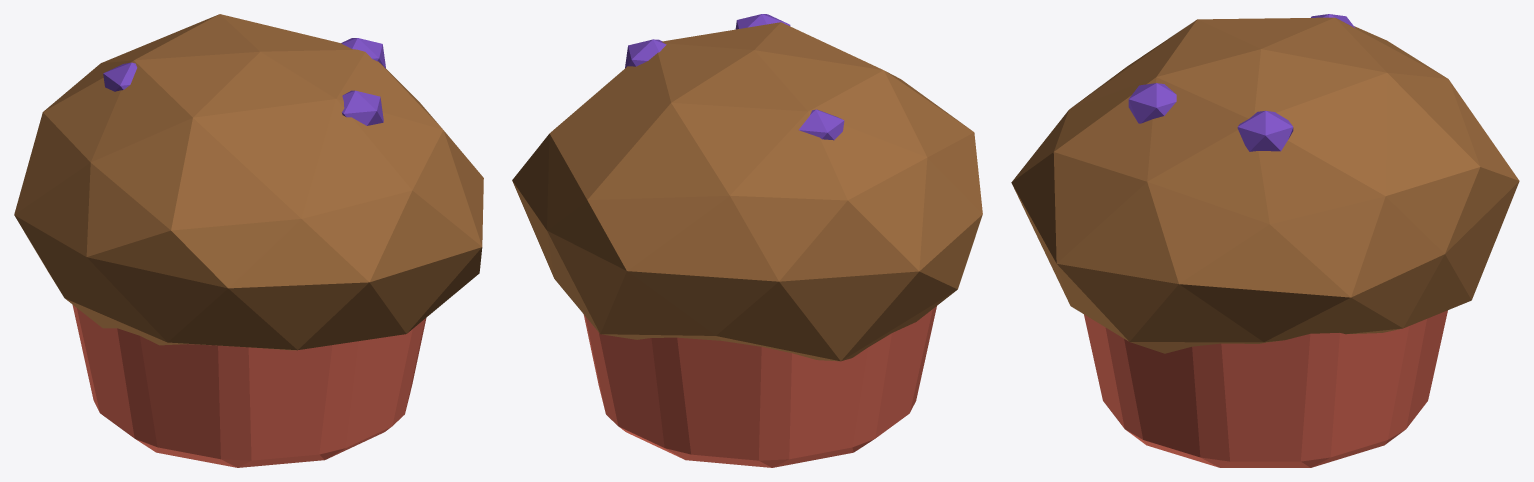
The model's file is muffin.glb.
3 views of the same model, side by side, from view 1: azimuth 30°, elevation 25°; view 2: azimuth 150°, elevation 25°; view 3: azimuth 270°, elevation 25° (orthographic). The views are drawn at different scales.
Parts seen in each view (by area): view 1: muffin; view 2: muffin; view 3: muffin.
Boxes of the visible parts, left/top/right/bottom form: muffin: left=14, top=14, right=483, bottom=467; muffin: left=512, top=14, right=982, bottom=467; muffin: left=1011, top=14, right=1519, bottom=467.
Size of the model in its own units: 0.1159 by 0.0973 by 0.1237.
